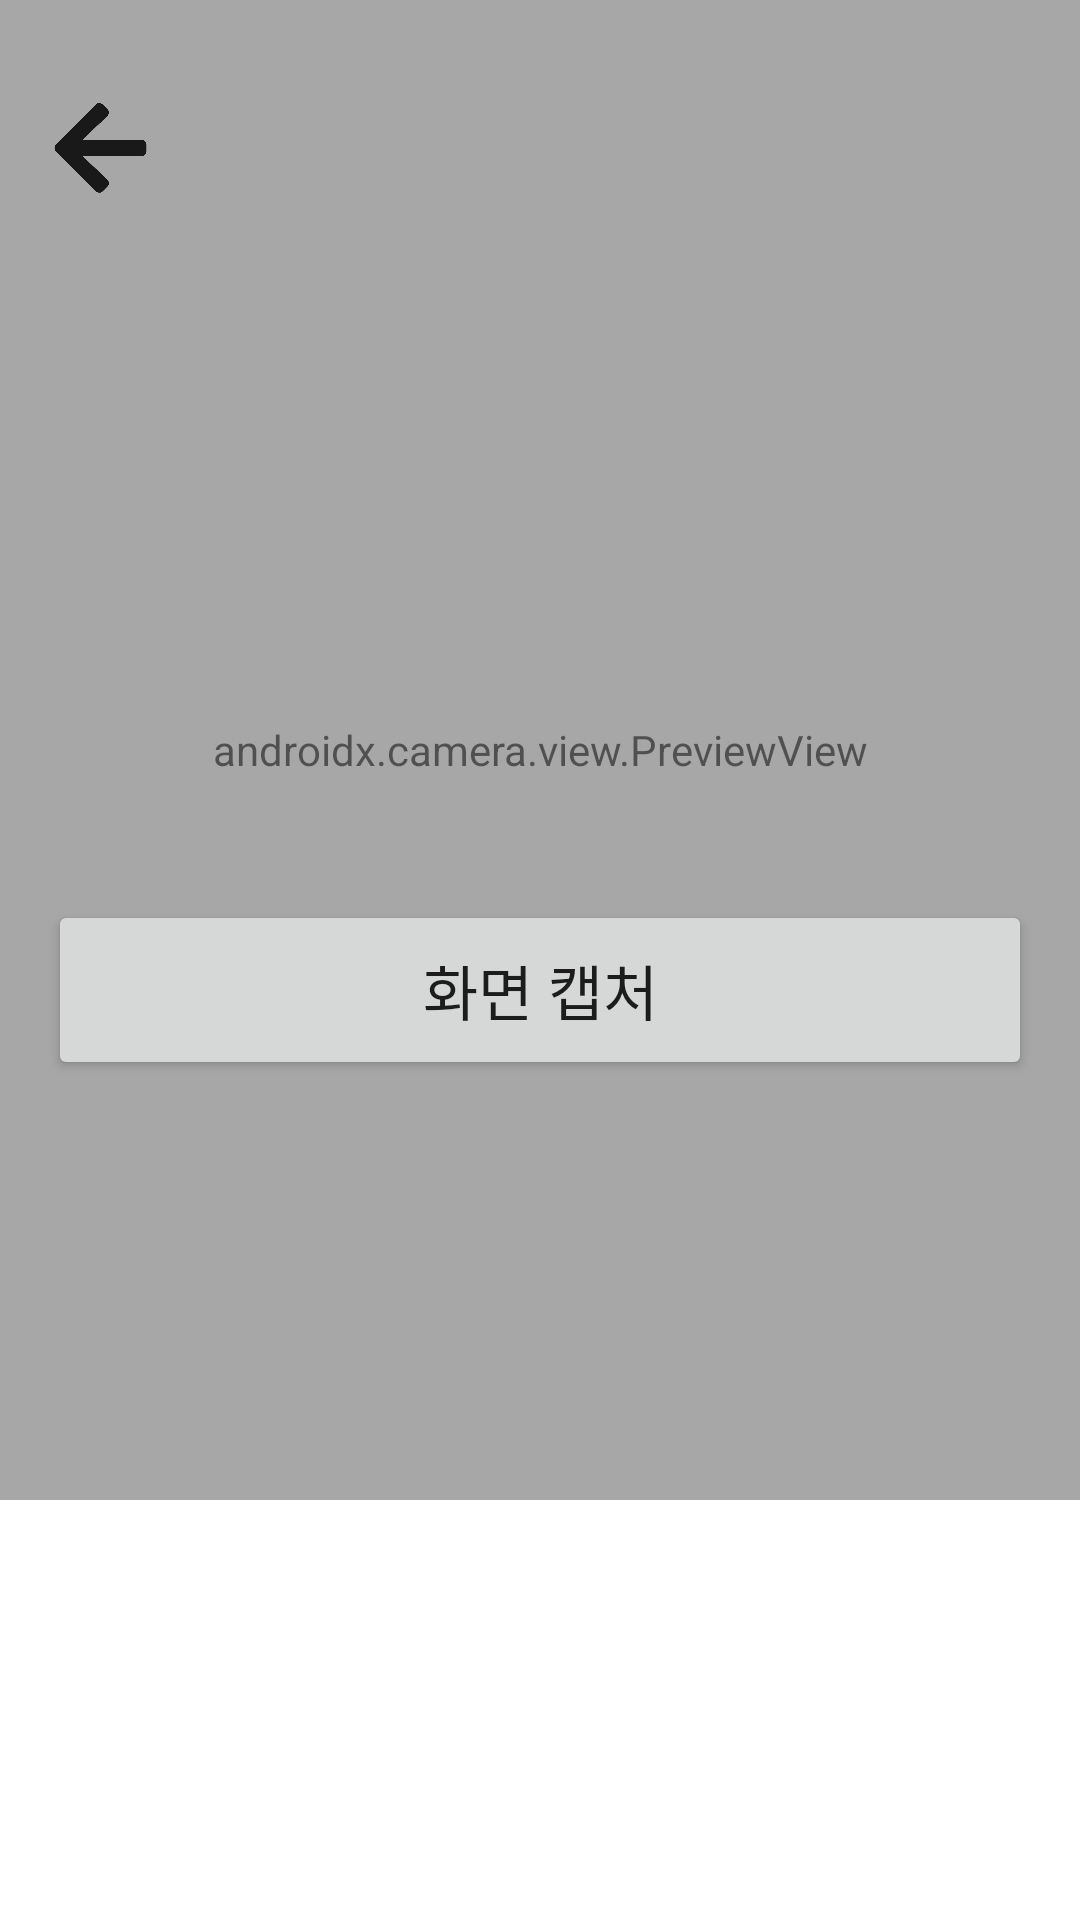

Named icons in this screenshot (1080w x 1920h) and their centers, (x,y):
arrow left: (100,148)
